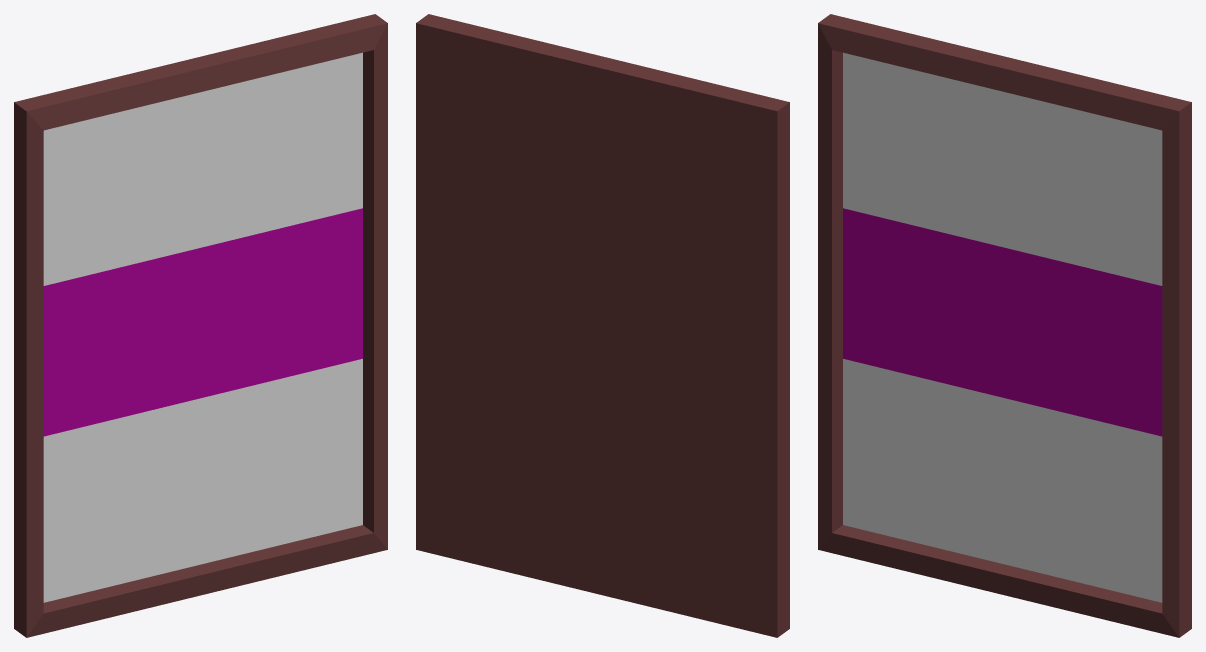
The model's file is Painting.fbx.
3 renders of one model, left to right at view 1: azimuth 30°, elevation 25°; view 2: azimuth 150°, elevation 25°; view 3: azimuth 330°, elevation 25°, orthographic.
Parts seen in each view (by area): view 1: pCube1; view 2: pCube1; view 3: pCube1.
Part boxes in pixels (left/top/right/bottom): pCube1: left=14, top=14, right=387, bottom=637; pCube1: left=416, top=14, right=789, bottom=637; pCube1: left=818, top=14, right=1191, bottom=637.
Bounding box in the file's own units: 11.68 × 16.27 × 0.7919.
